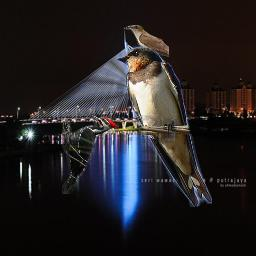Cuckoo: (125, 25, 169, 57)
Swallow: (115, 46, 212, 207)
Woodpecker: (62, 114, 119, 194)
